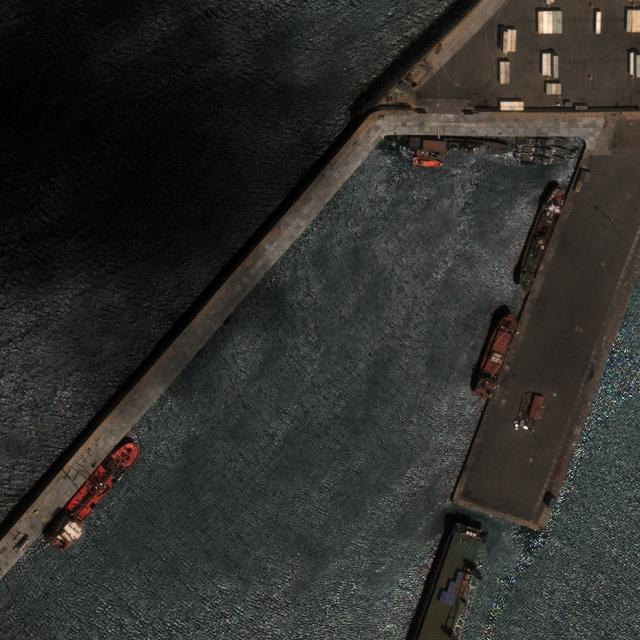Cargo: (509, 183, 568, 297), (470, 311, 520, 399), (408, 136, 511, 156), (516, 143, 568, 156), (514, 153, 566, 165), (517, 137, 568, 145)
Oil Tanker: (43, 435, 149, 555), (409, 522, 486, 640)
Other Ship: (412, 156, 445, 169)
